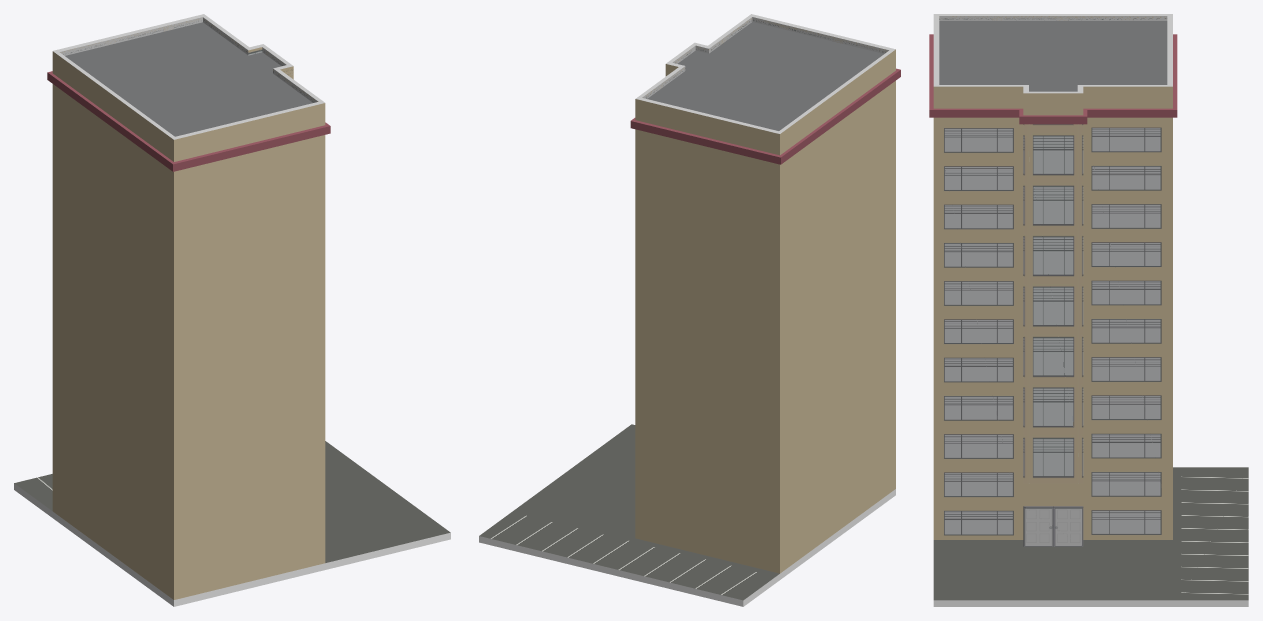
The model's file is buildings_2.dae.
The picture shows the model from 3 angles, left to right: view 1: azimuth 30°, elevation 25°; view 2: azimuth 150°, elevation 25°; view 3: azimuth 270°, elevation 25°; orthographic projection. The views are drawn at different scales.
Parts seen in each view (by area): view 1: group_0 (×9); view 2: group_0 (×9); view 3: group_0 (×13).
Boxes of the visible parts, x1=… form: group_0 (×9): x1=14, y1=14, x2=450, y2=606; group_0 (×9): x1=479, y1=14, x2=900, y2=606; group_0 (×13): x1=929, y1=14, x2=1248, y2=606.
Size of the model in its own units: 135 by 136 by 216.
10 materials, 9 textured.
